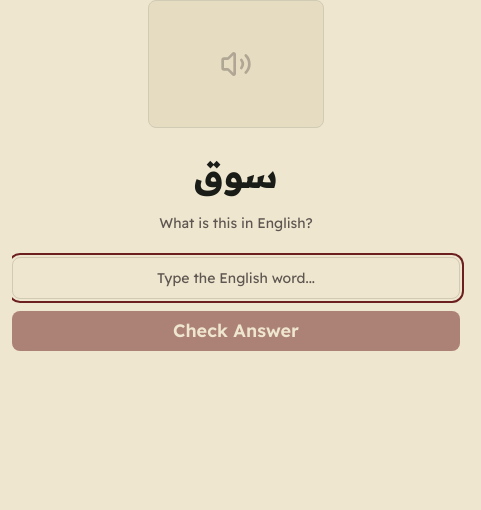
Test: typing the answer › shows the answer when they get it wrong
Type "shop" into the field with placeholder "Type the English word...".
click(236, 278); type("shop")  # box x1=12 y1=257 x2=460 y2=299
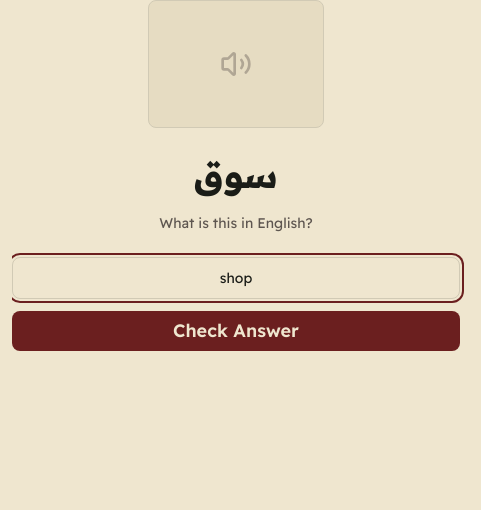
Click the button "Check Answer".
click(236, 331)  # box x1=12 y1=311 x2=460 y2=351
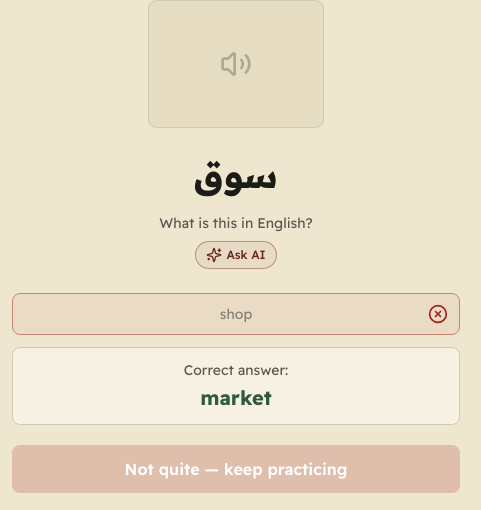
Check: the text "Correct answer:" is shown, box x1=184 y1=361 x2=288 y2=379
Check: the text "market" is shown, box x1=200 y1=385 x2=272 y2=410
